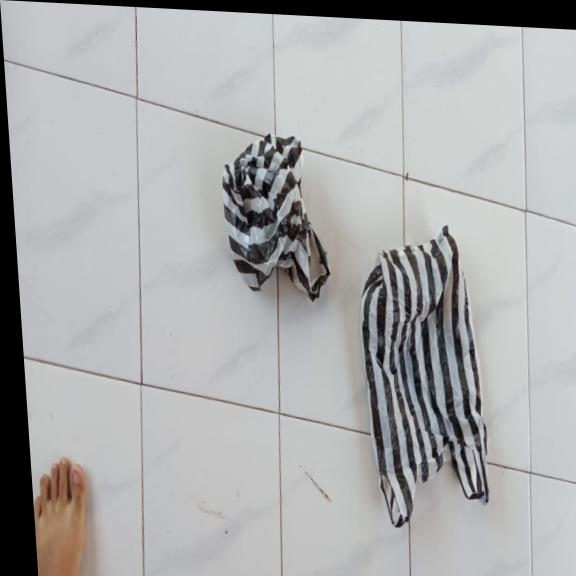Plastik: (352, 221, 494, 532), (217, 128, 332, 305)
